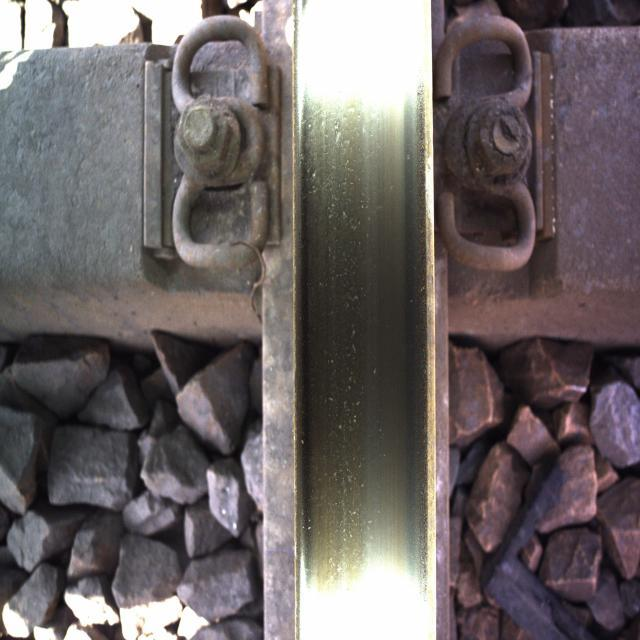break: (306, 41, 415, 598)
